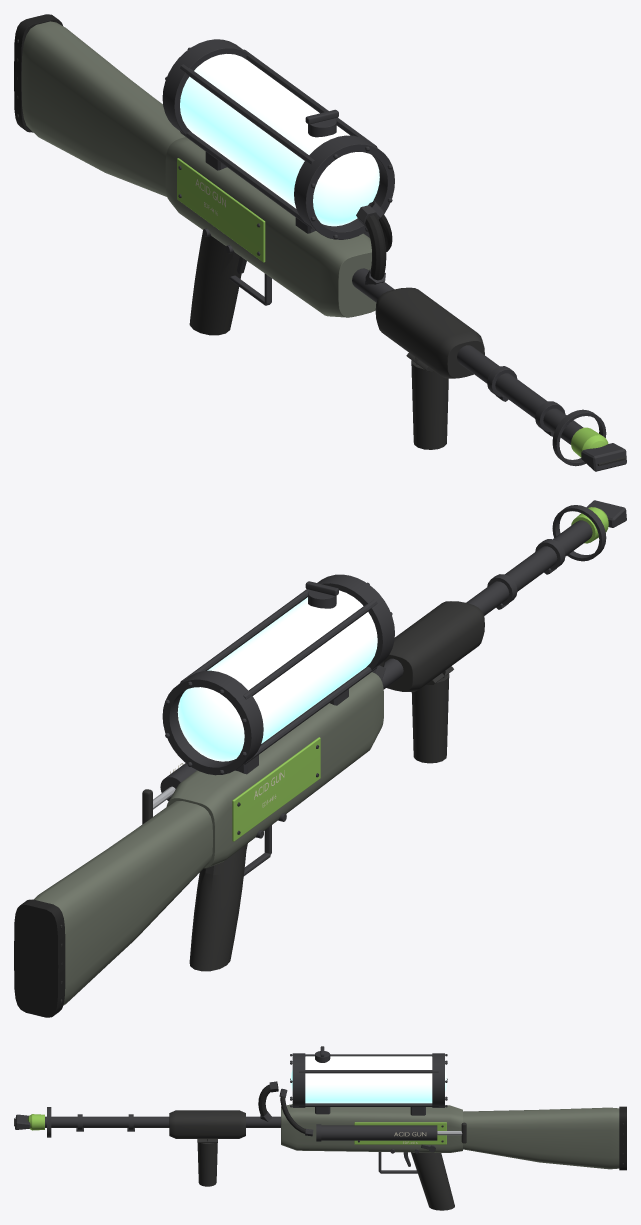
File: acid.glb
The picture shows the model from 3 angles, top to bottom: view 1: azimuth 30°, elevation 25°; view 2: azimuth 150°, elevation 25°; view 3: azimuth 270°, elevation 25°; orthographic projection. The views are drawn at different scales.
Visible parts, largest first — view 1: Body; view 2: Body; view 3: Body.
Part boxes in pixels (<box>): Body: <box>14,14,626,471</box>; Body: <box>14,500,626,1017</box>; Body: <box>14,1046,626,1210</box>.
Size of the model in its own units: 0.0968 by 0.2704 by 0.9605.
